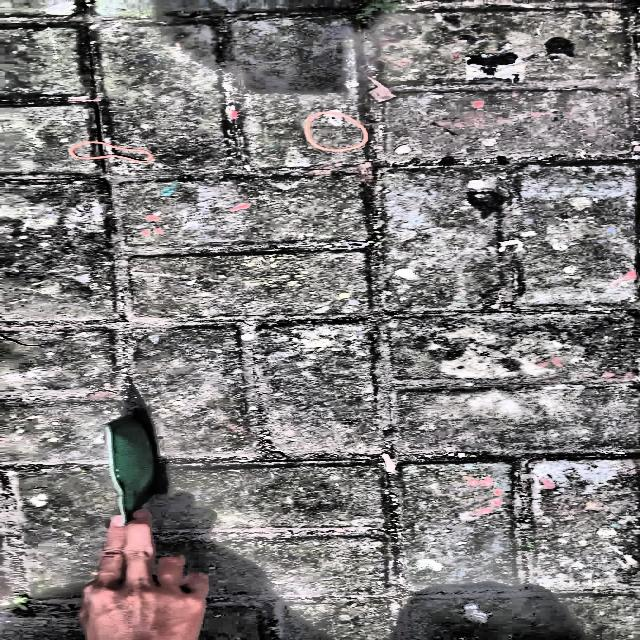payload: (107, 416, 155, 521)
